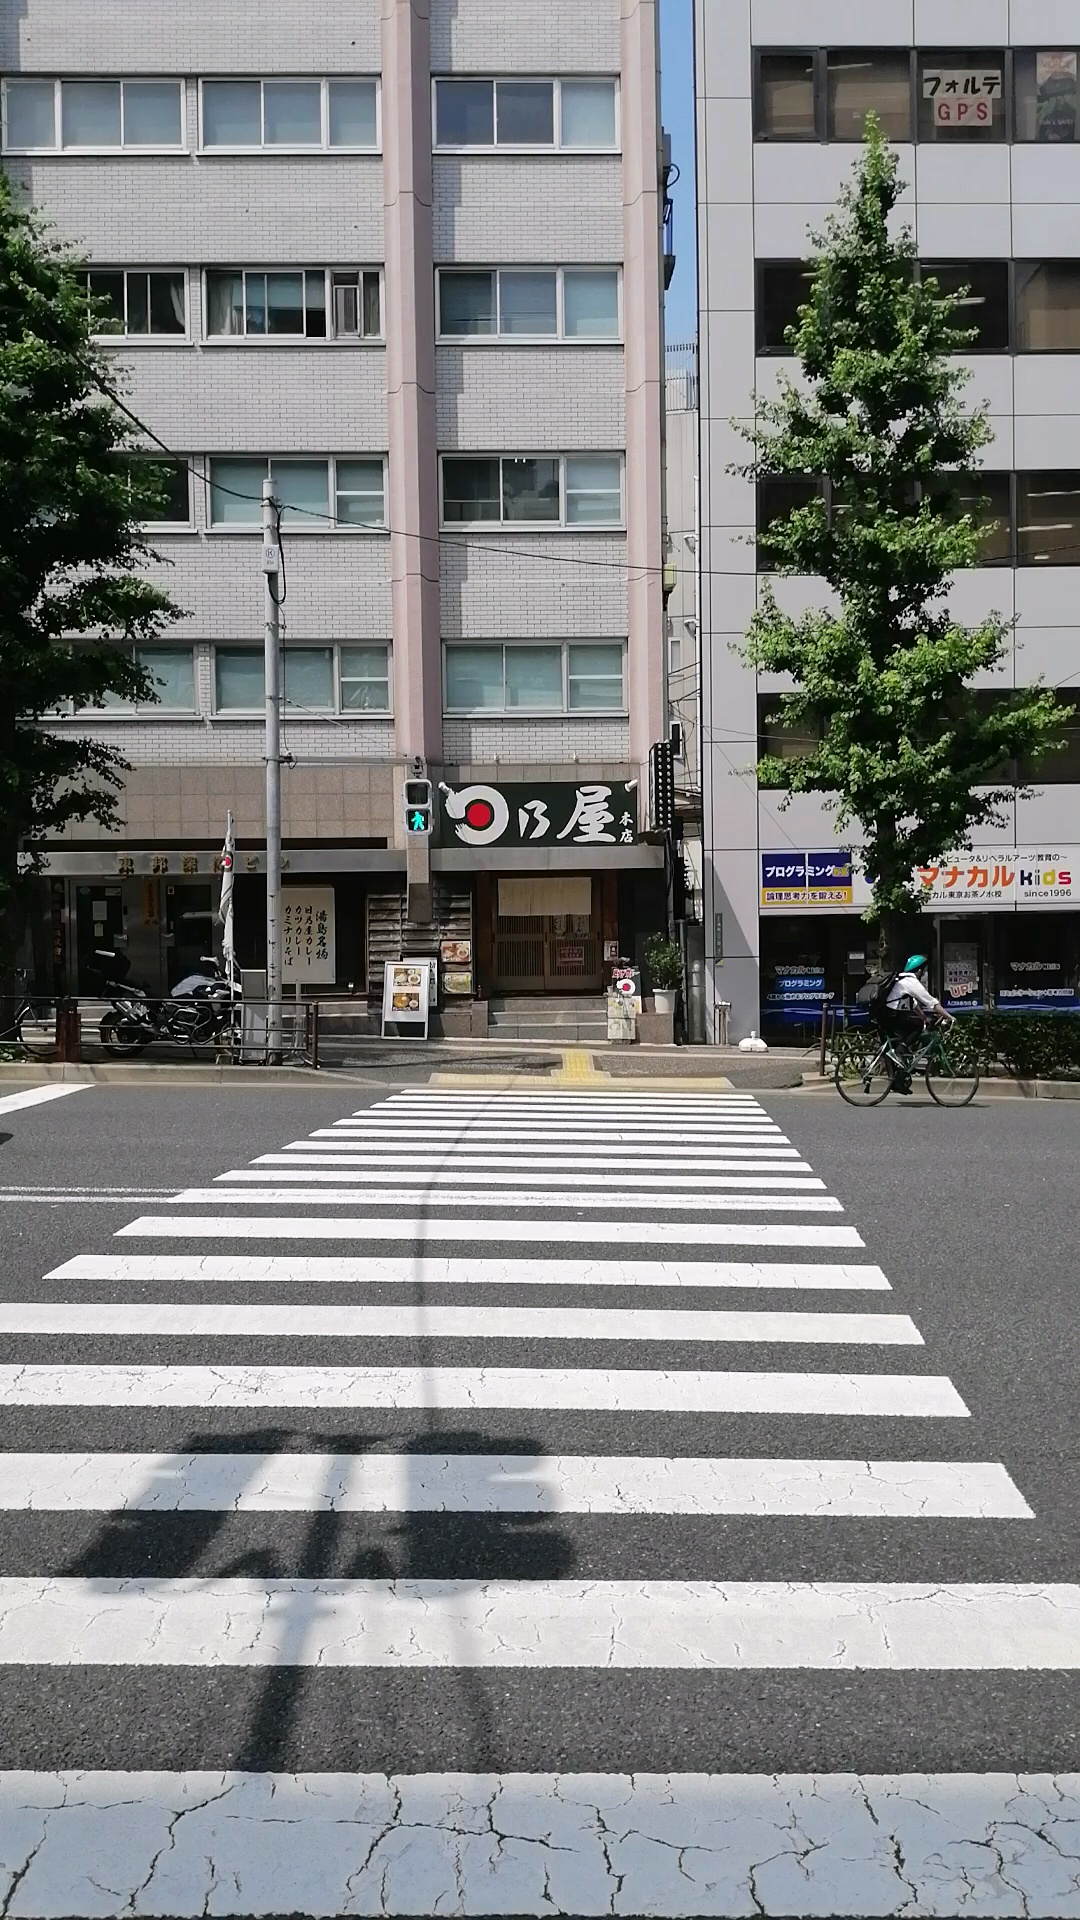green: (400, 779, 434, 835)
